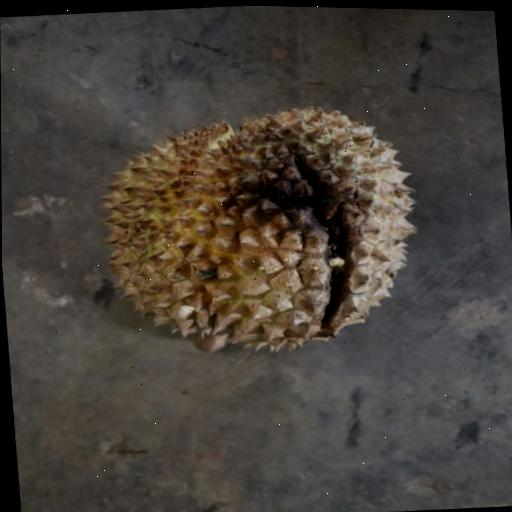rot: (56, 58, 439, 402)
